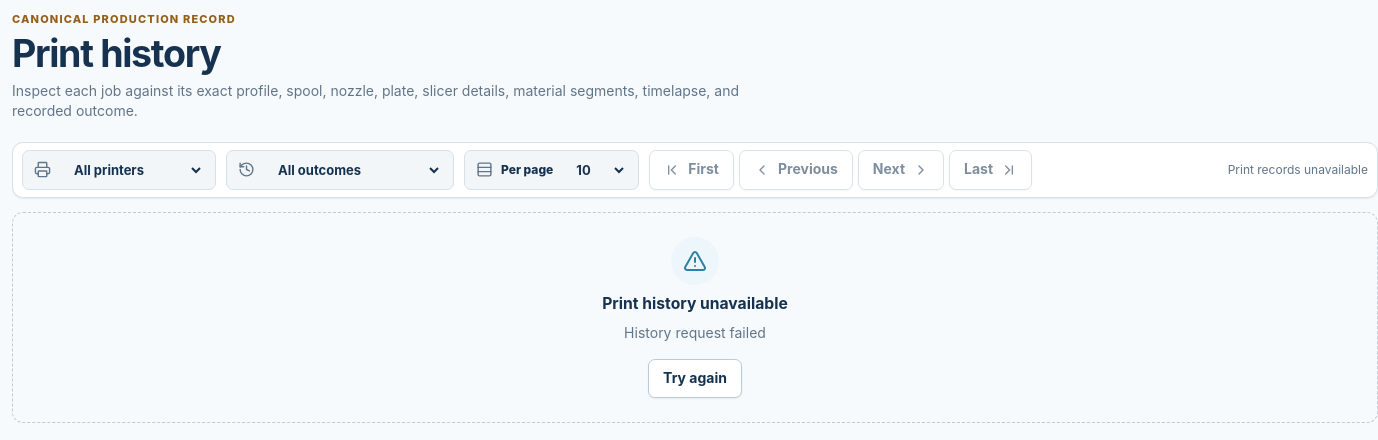
PrintHistoryPage › shows a retryable request error instead of a false empty-history state
This screenshot has width=1378, height=440.
Expected: the heading "Print history unavailable" is shown, top-left (602, 293), bottom-right (788, 315)
Click the button "Try again" at (695, 378), box top-left (648, 359), bottom-right (742, 398)
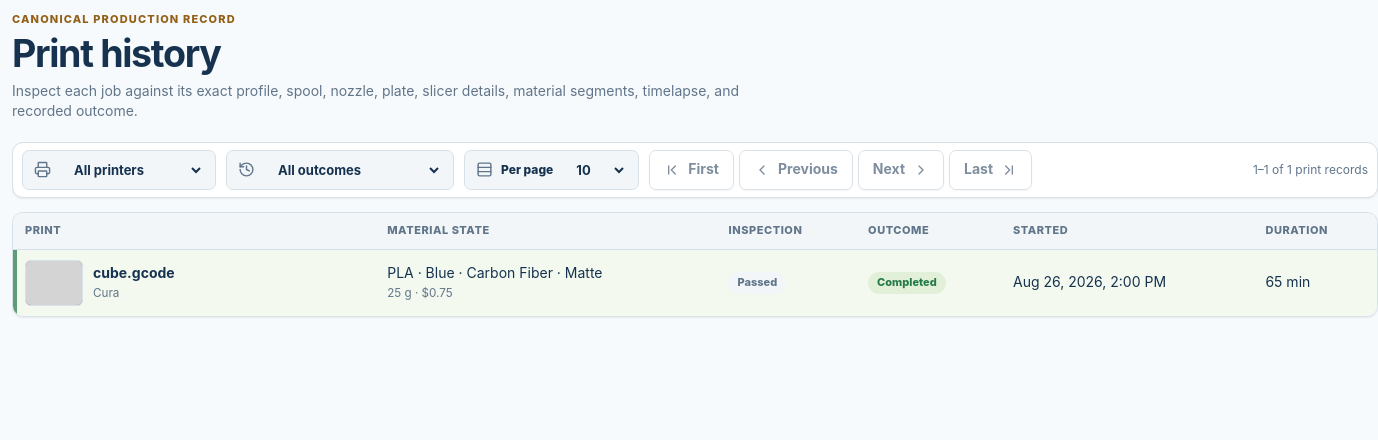
Expected: the text "cube.gcode" is shown, top-left (93, 264), bottom-right (175, 281)
